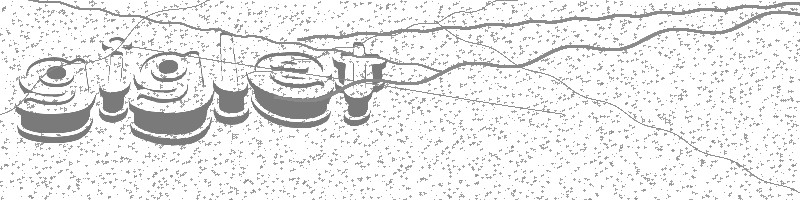e: (248, 51, 335, 128)
g: (129, 50, 214, 146), (14, 48, 94, 143)
i: (98, 26, 129, 124)
l: (213, 25, 249, 126)
t: (332, 41, 385, 128)
